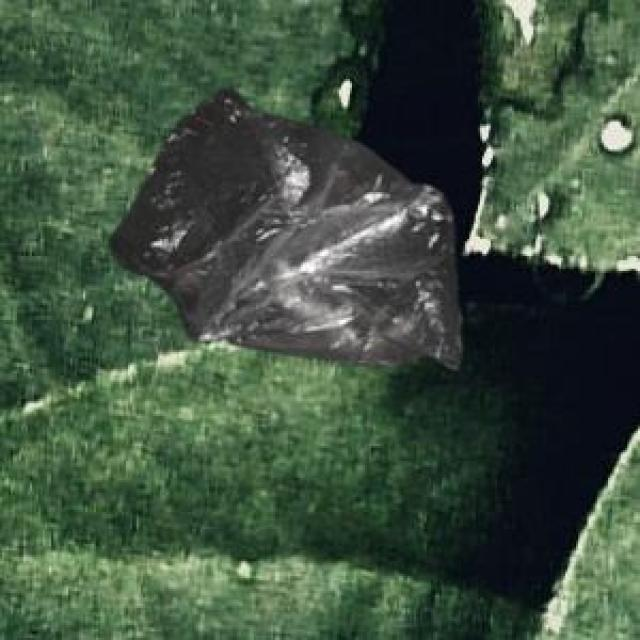Vinyl: (124, 90, 468, 372)
